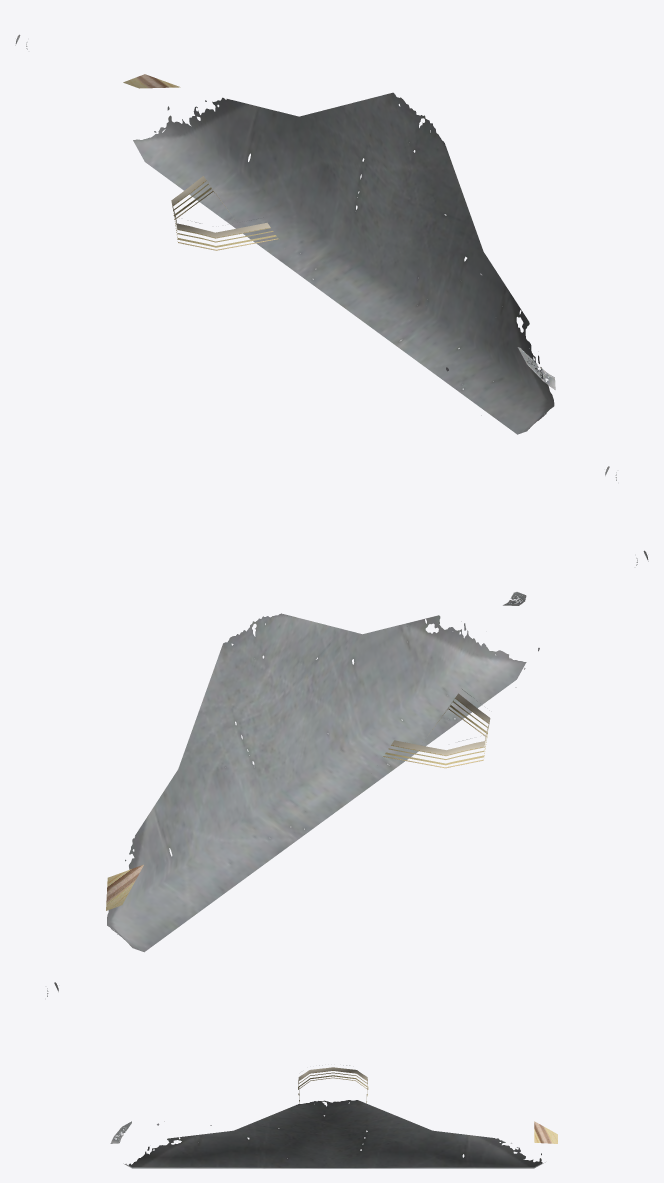
File: trucks2.obj
The picture shows the model from 3 angles, top to bottom: view 1: azimuth 30°, elevation 25°; view 2: azimuth 150°, elevation 25°; view 3: azimuth 270°, elevation 25°; orthographic projection. The views are drawn at different scales.
Visible parts, largest first — view 1: TRUCKS2; view 2: TRUCKS2; view 3: TRUCKS2.
Boxes of the visible parts, x1,y1,x2,y2 form: TRUCKS2: (15,34,616,480); TRUCKS2: (47,550,648,996); TRUCKS2: (110,1065,557,1168).
Size of the model in its own units: 0.1663 by 0.1248 by 0.6009.
